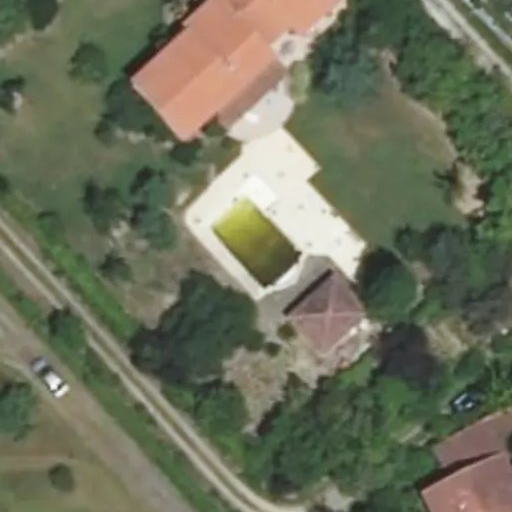pool: (210, 195, 305, 291)
